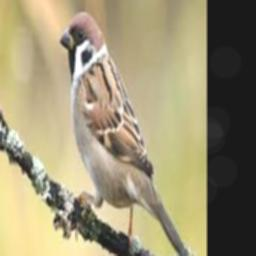Sparrow: (60, 12, 186, 256)
